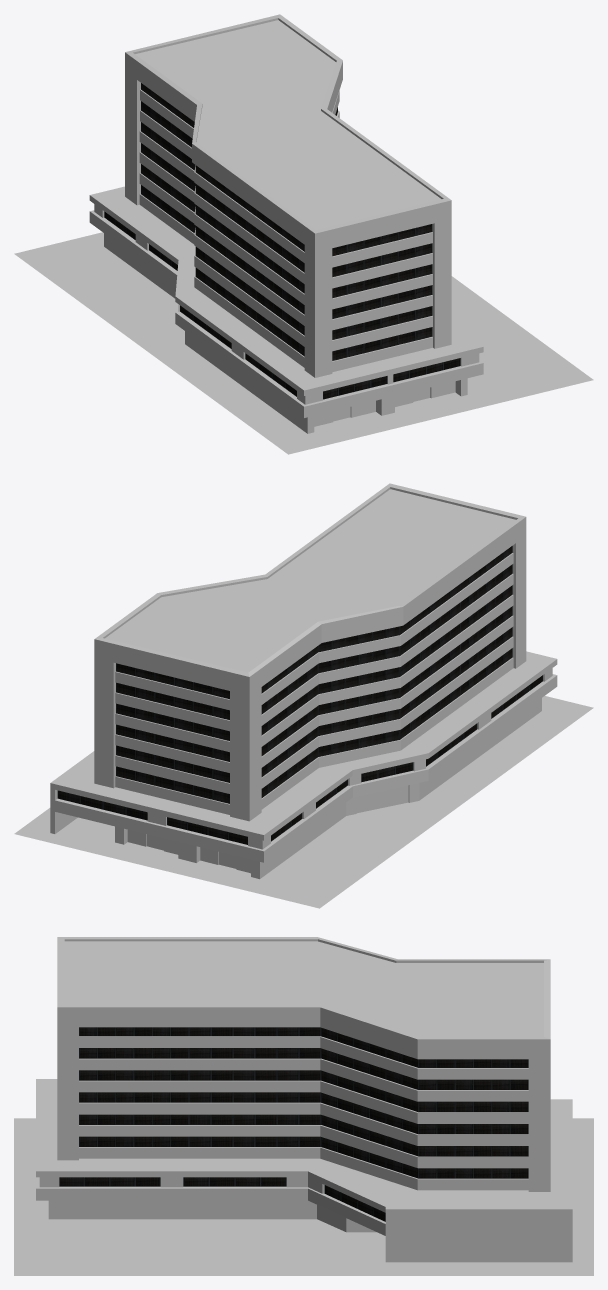
3 views of the same model, one above another, from view 1: azimuth 30°, elevation 25°; view 2: azimuth 150°, elevation 25°; view 3: azimuth 270°, elevation 25° (orthographic). The views are drawn at different scales.
Parts seen in each view (by area): view 1: M-004; view 2: M-004; view 3: M-004.
Boxes of the visible parts, <box> form: M-004: <box>14,14,593,454</box>; M-004: <box>14,483,593,908</box>; M-004: <box>14,937,593,1275</box>.
Size of what is drawn, in the model's own units: 46.32 by 28.28 by 72.
